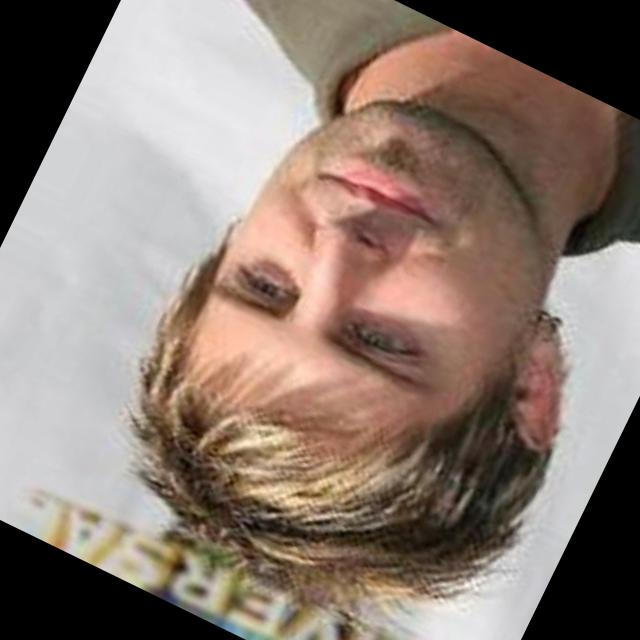bareface: (135, 47, 622, 563)
